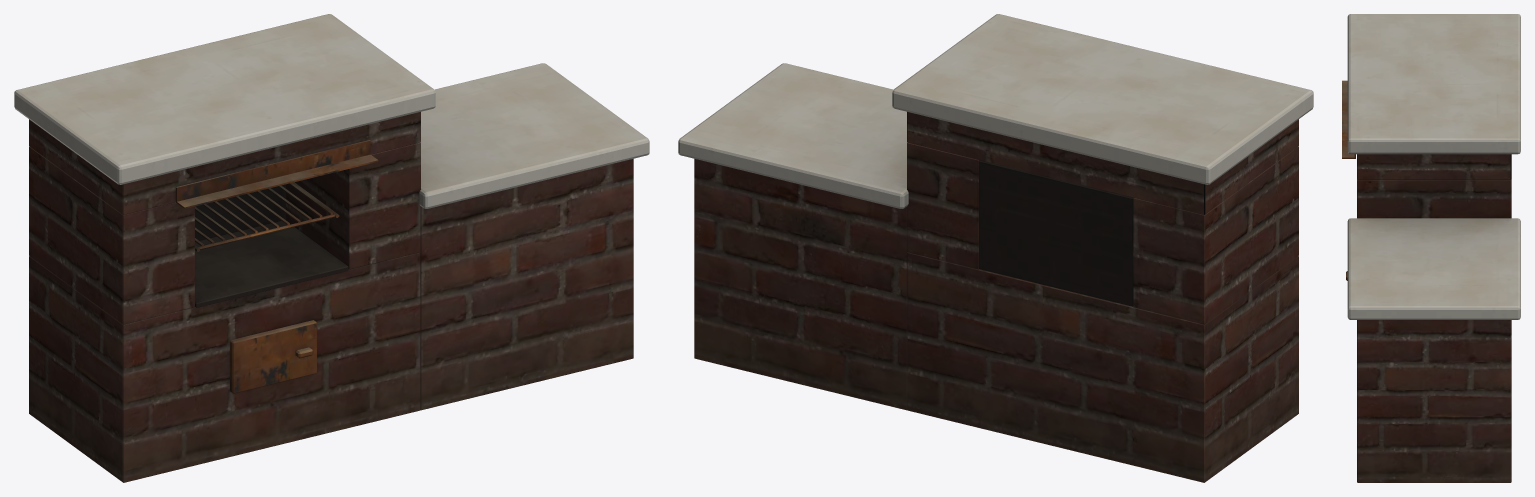
The model's file is bbq_brick.glb.
The picture shows the model from 3 angles, left to right: view 1: azimuth 30°, elevation 25°; view 2: azimuth 150°, elevation 25°; view 3: azimuth 270°, elevation 25°; orthographic projection. The views are drawn at different scales.
Visible parts, largest first — view 1: bbq_brick; view 2: bbq_brick; view 3: bbq_brick.
Boxes of the visible parts, x1,y1,x2,y2 form: bbq_brick: (14,14,649,482); bbq_brick: (678,14,1313,482); bbq_brick: (1342,14,1520,482).
Bounding box in the file's own units: 2.14 × 1.24 × 0.764.
2 materials, 2 textured.
